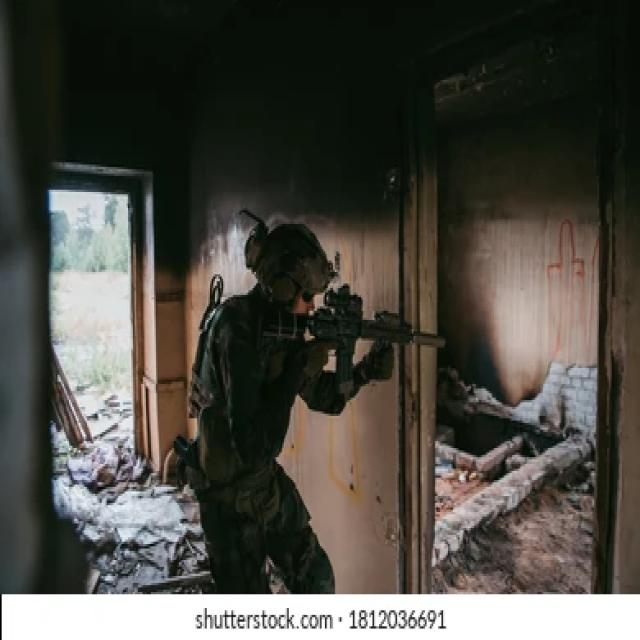soldier: (170, 208, 446, 597)
